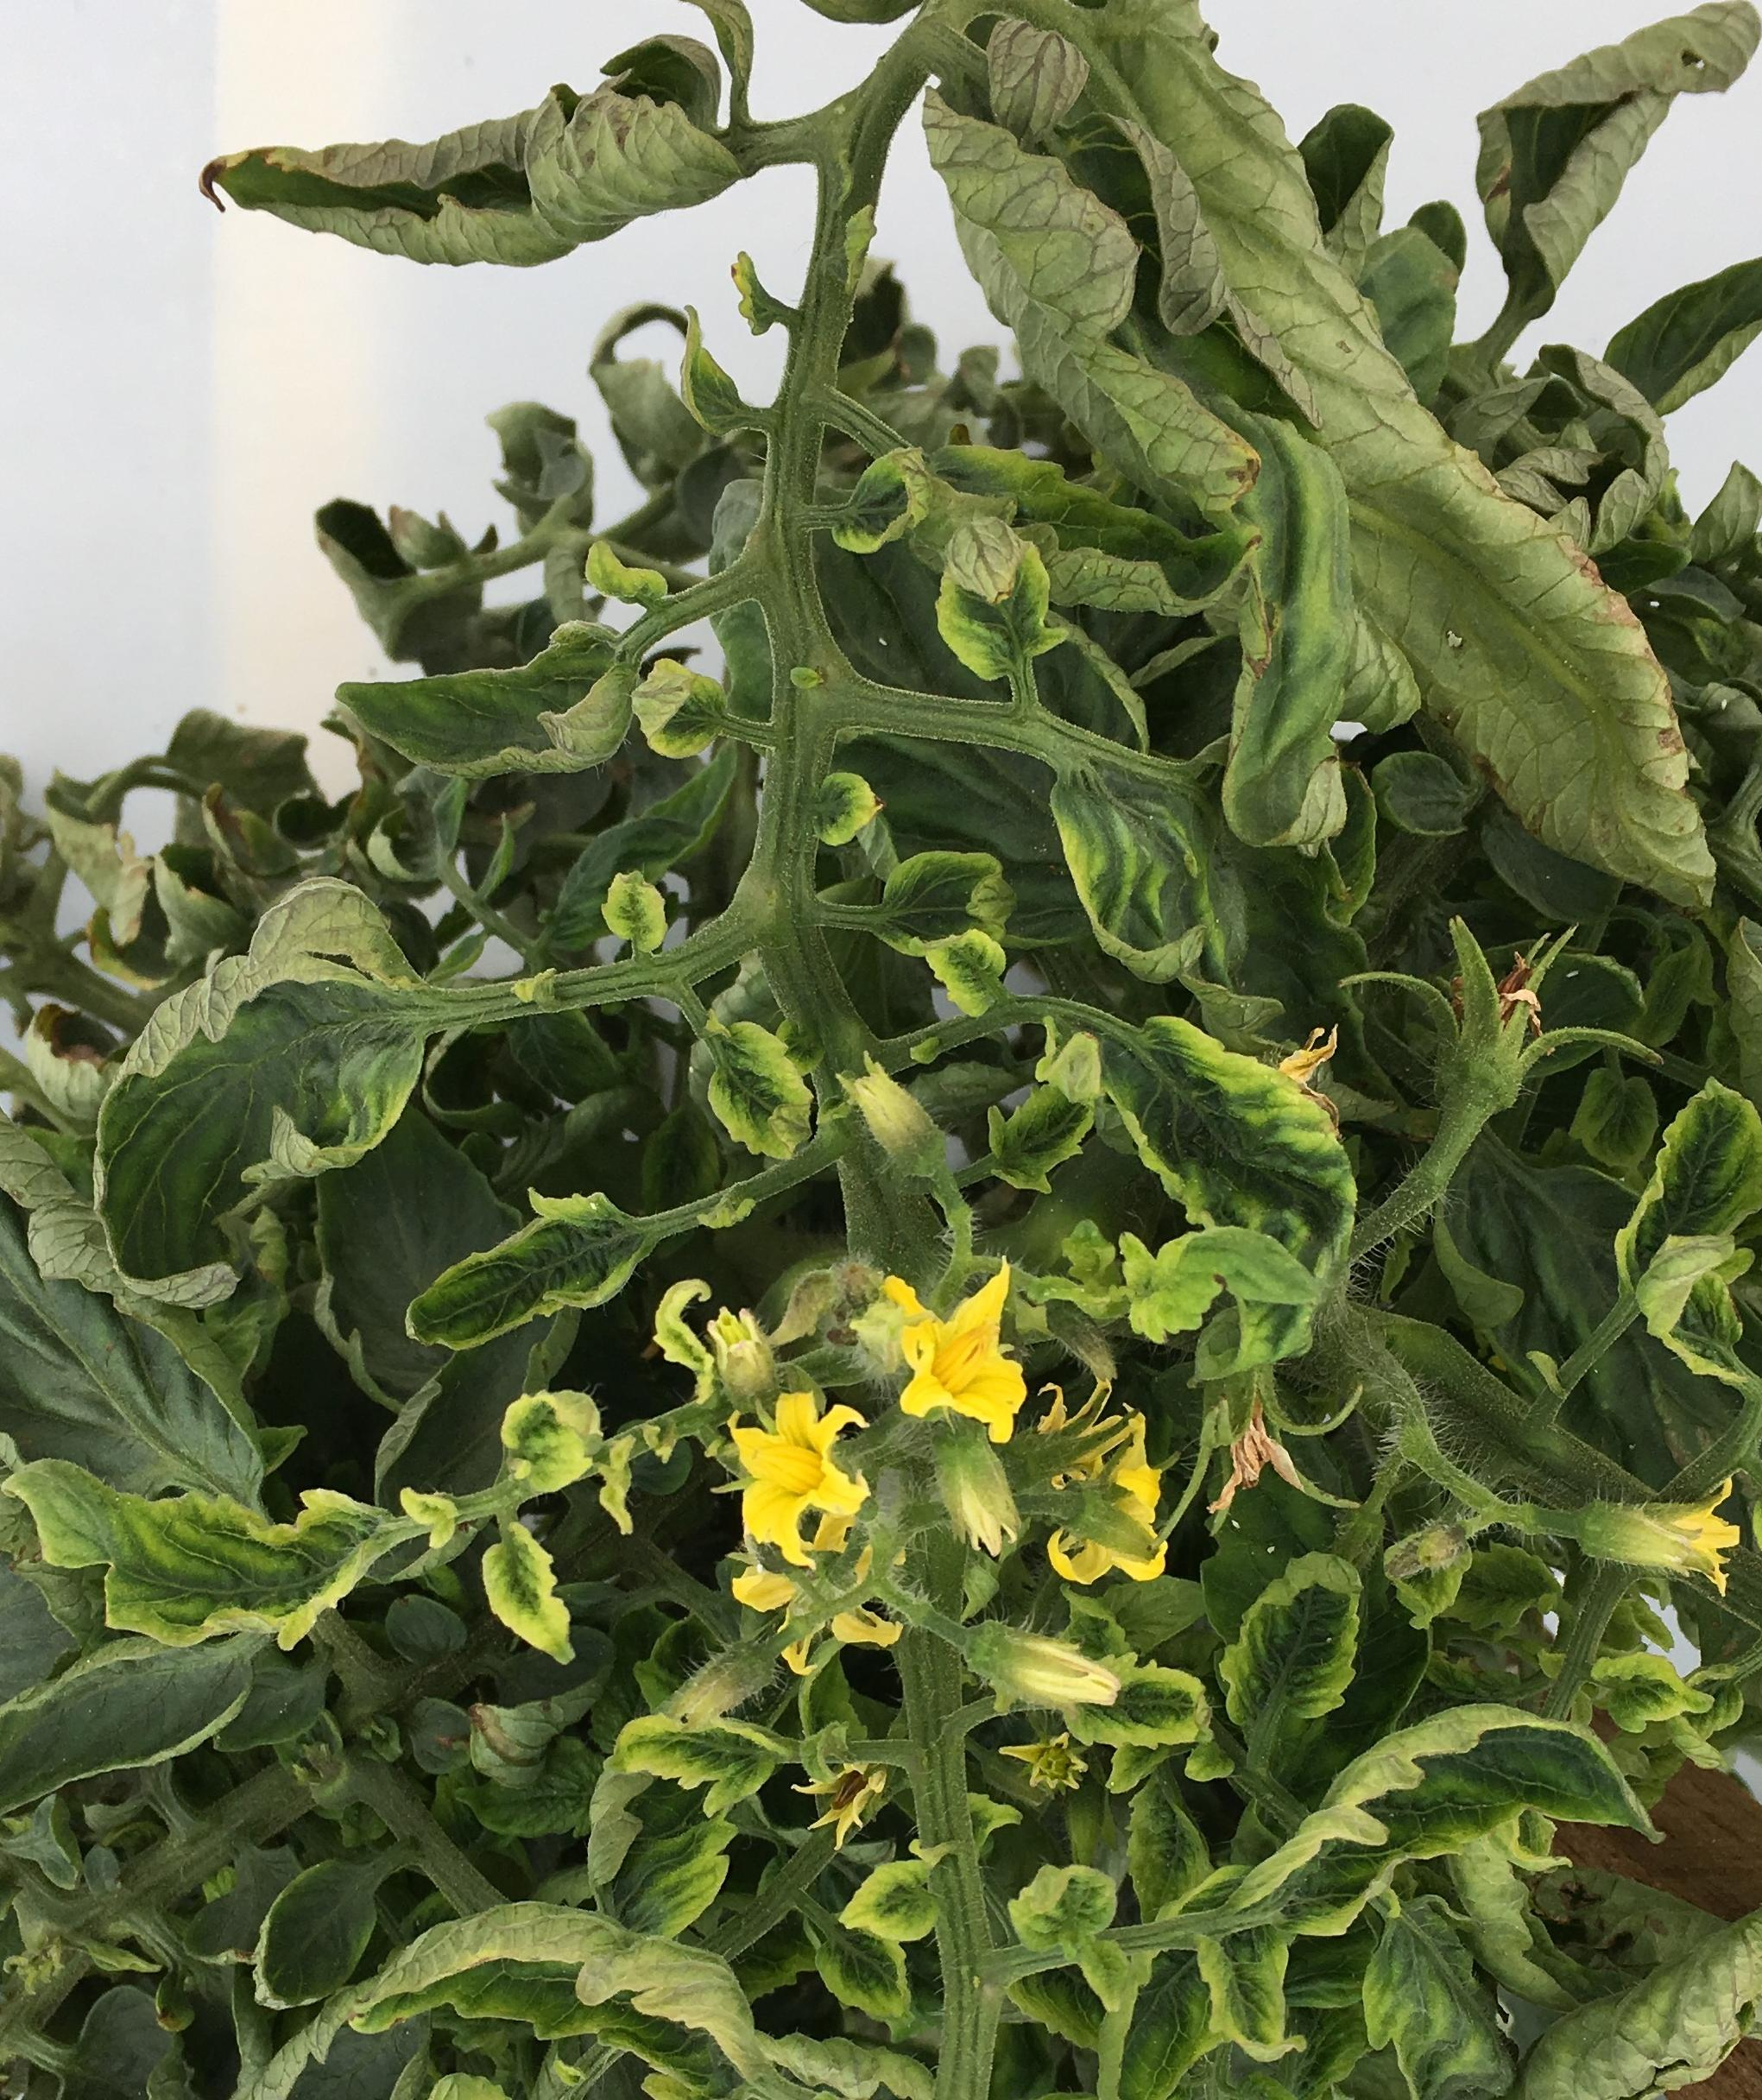Tomato leaf yellow virus: (82, 824, 458, 1352), (1180, 1680, 1666, 2060), (0, 1362, 432, 1689), (1052, 990, 1393, 1388), (213, 1909, 900, 2100), (1016, 755, 1370, 1088), (1606, 1039, 1762, 1395), (1206, 1551, 1400, 1761)
